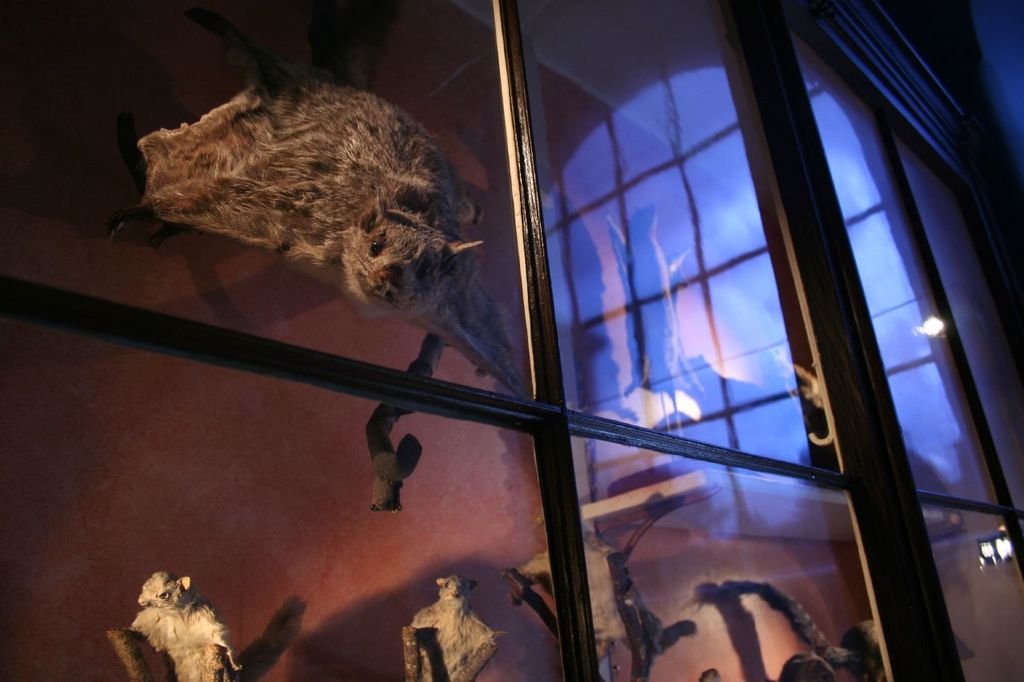Animal: (132, 61, 534, 397), (509, 518, 667, 681), (124, 568, 243, 680), (405, 573, 496, 680)
